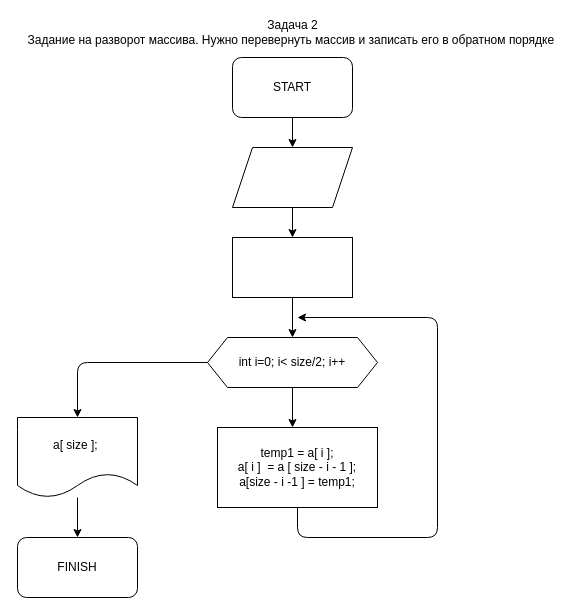
The diagram is 585 pixels wide and 615 high, and some of its shapes have lost their labels. Here are the shapes that lost their labels. From the top down, the centre of each, then its label:
At point 292,177: "a[size];".
At point 292,267: "temp1 = 0;".
